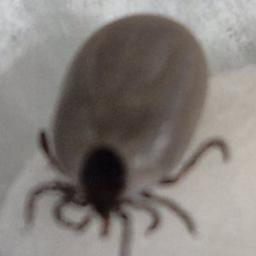Ixodes scapularis: (22, 13, 230, 255)
